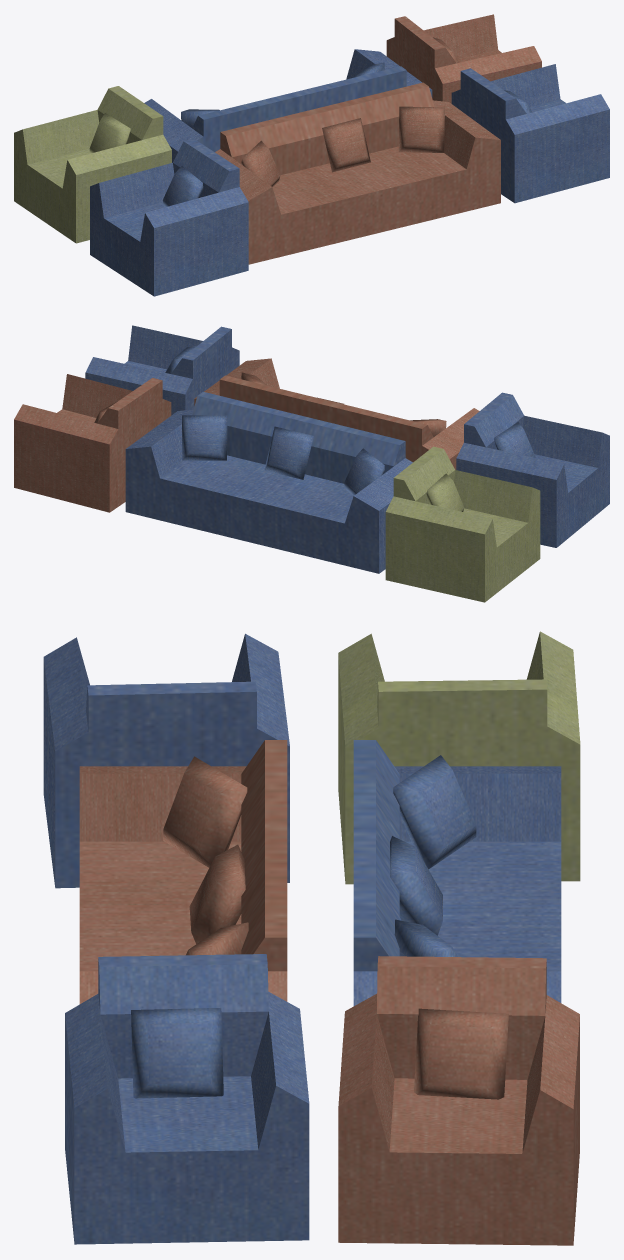
Rendered from Couch_Bundle.fbx.
The picture shows the model from 3 angles, top to bottom: view 1: azimuth 30°, elevation 25°; view 2: azimuth 150°, elevation 25°; view 3: azimuth 270°, elevation 25°; orthographic projection. The views are drawn at different scales.
Visible parts, largest first — view 1: Couch_Bundle; view 2: Couch_Bundle; view 3: Couch_Bundle.
Part boxes in pixels (x1=…): Couch_Bundle: x1=14, y1=14, x2=609, y2=296; Couch_Bundle: x1=14, y1=325, x2=609, y2=602; Couch_Bundle: x1=43, y1=631, x2=580, y2=1245.
Bounding box in the file's own units: 624 × 122 × 308.
